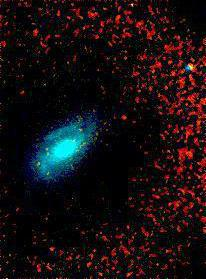star: (109, 102, 139, 132)
